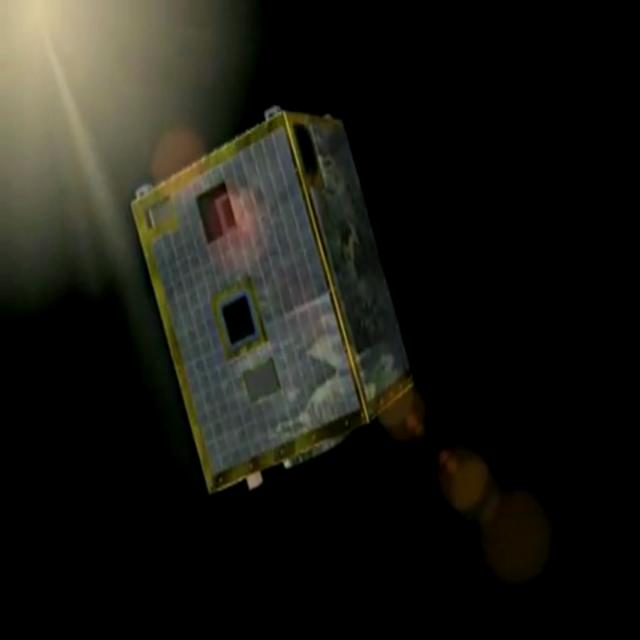satellite: (123, 58, 394, 520)
